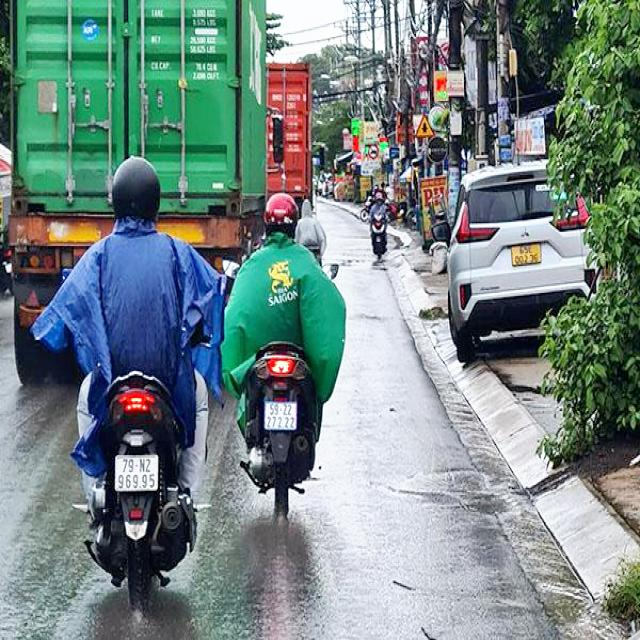license_plate: (117, 453, 158, 494), (267, 402, 297, 431), (513, 243, 544, 269)
